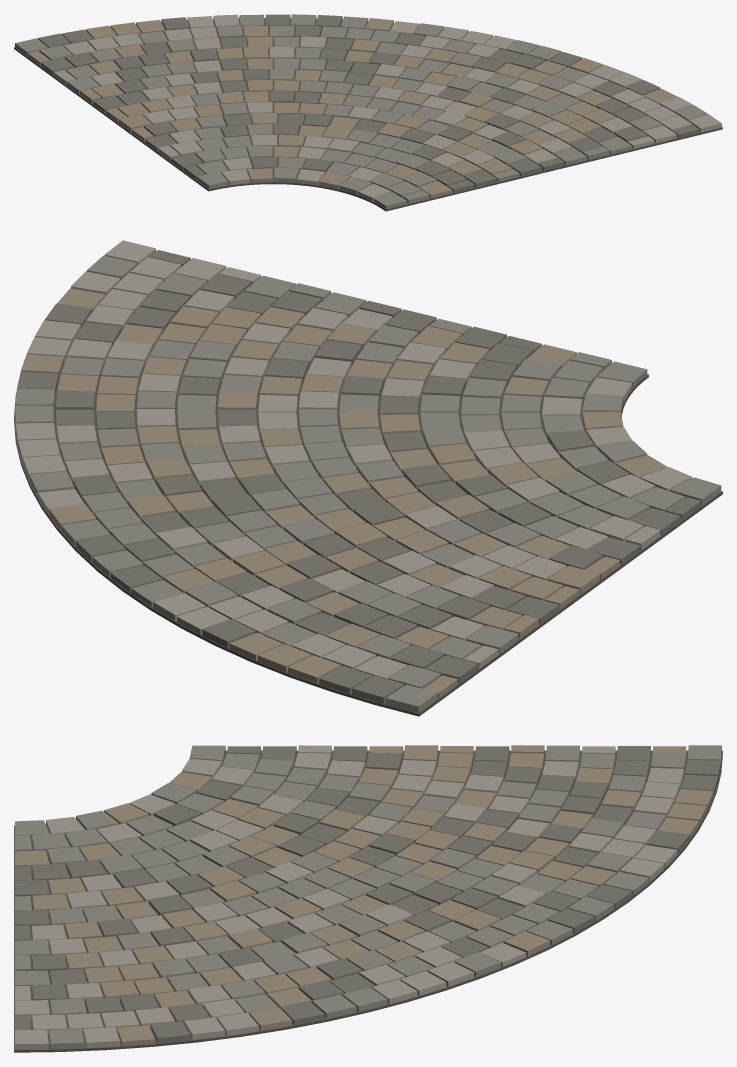
The model's file is suelo-calles-adoquin-calle-curva.glb.
3 views of the same model, one above another, from view 1: azimuth 30°, elevation 25°; view 2: azimuth 150°, elevation 25°; view 3: azimuth 270°, elevation 25° (orthographic). The views are drawn at different scales.
Parts seen in each view (by area): view 1: calle_curva_AdoquinGris1, calle_curva_AdoquinCalido, calle_curva_AdoquinGris3, calle_curva_AdoquinGris2, calle_curva_LosaCalle; view 2: calle_curva_AdoquinGris1, calle_curva_AdoquinCalido, calle_curva_AdoquinGris3, calle_curva_AdoquinGris2, calle_curva_LosaCalle; view 3: calle_curva_AdoquinGris1, calle_curva_AdoquinCalido, calle_curva_AdoquinGris3, calle_curva_AdoquinGris2, calle_curva_LosaCalle.
Part boxes in pixels (x1,y1,x2,y2): calle_curva_AdoquinGris1: (15,14,708,209); calle_curva_AdoquinCalido: (28,18,677,198); calle_curva_AdoquinGris3: (54,14,721,201); calle_curva_AdoquinGris2: (38,14,699,192); calle_curva_LosaCalle: (14,18,722,211); calle_curva_AdoquinGris1: (15,255,721,712); calle_curva_AdoquinCalido: (21,288,666,698); calle_curva_AdoquinGris3: (15,240,692,679); calle_curva_AdoquinGris2: (17,250,700,703); calle_curva_LosaCalle: (14,356,722,716); calle_curva_AdoquinGris1: (15,745,721,1049); calle_curva_AdoquinCalido: (15,745,713,1046); calle_curva_AdoquinGris3: (15,745,684,1049); calle_curva_AdoquinGris2: (15,746,720,1043); calle_curva_LosaCalle: (14,750,722,1052).
Bounding box in the file's own units: 8 × 0.1029 × 8.
